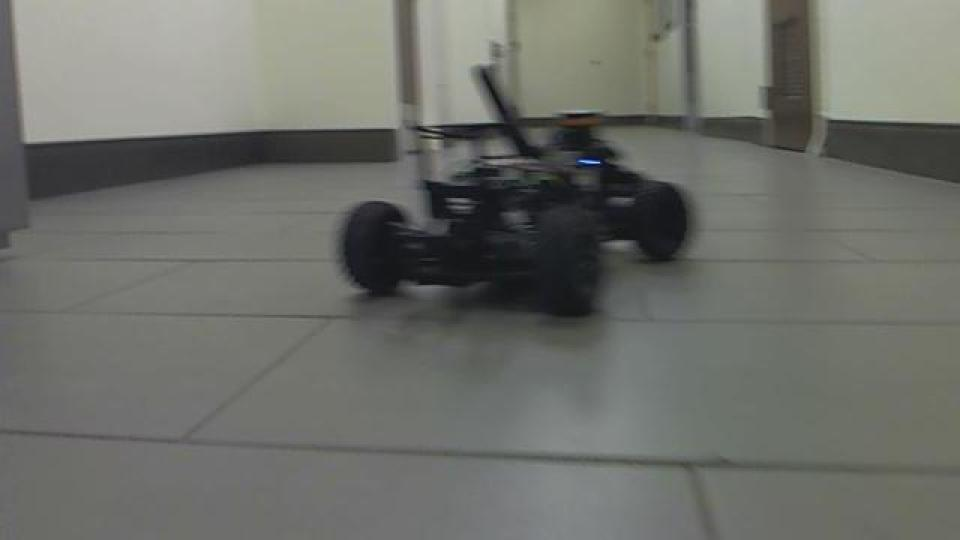car: (335, 57, 692, 319)
